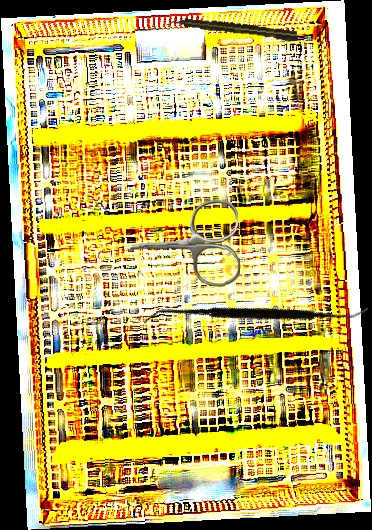Handpiece: (166, 14, 300, 43)
Iris Scissors: (122, 199, 241, 290)
Spatula Surgical: (142, 215, 370, 416)
